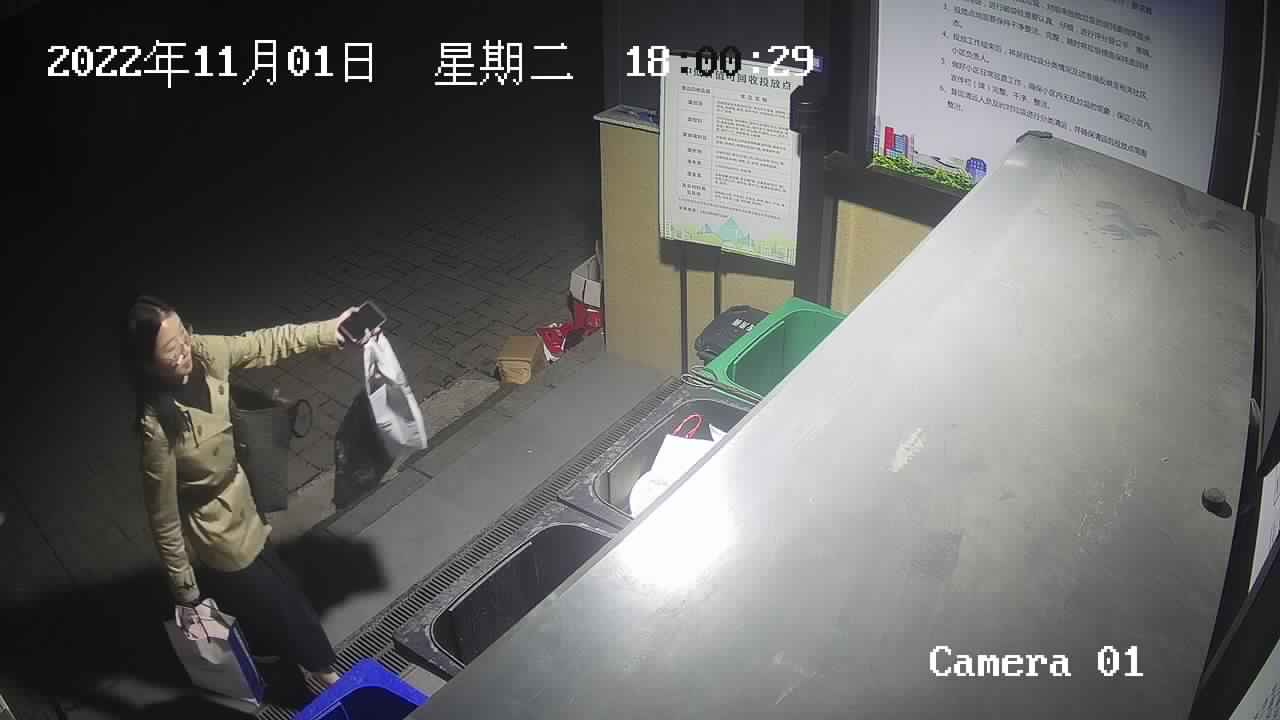person: (121, 292, 386, 693)
zhizhipin: (158, 595, 267, 715), (359, 325, 429, 457)
